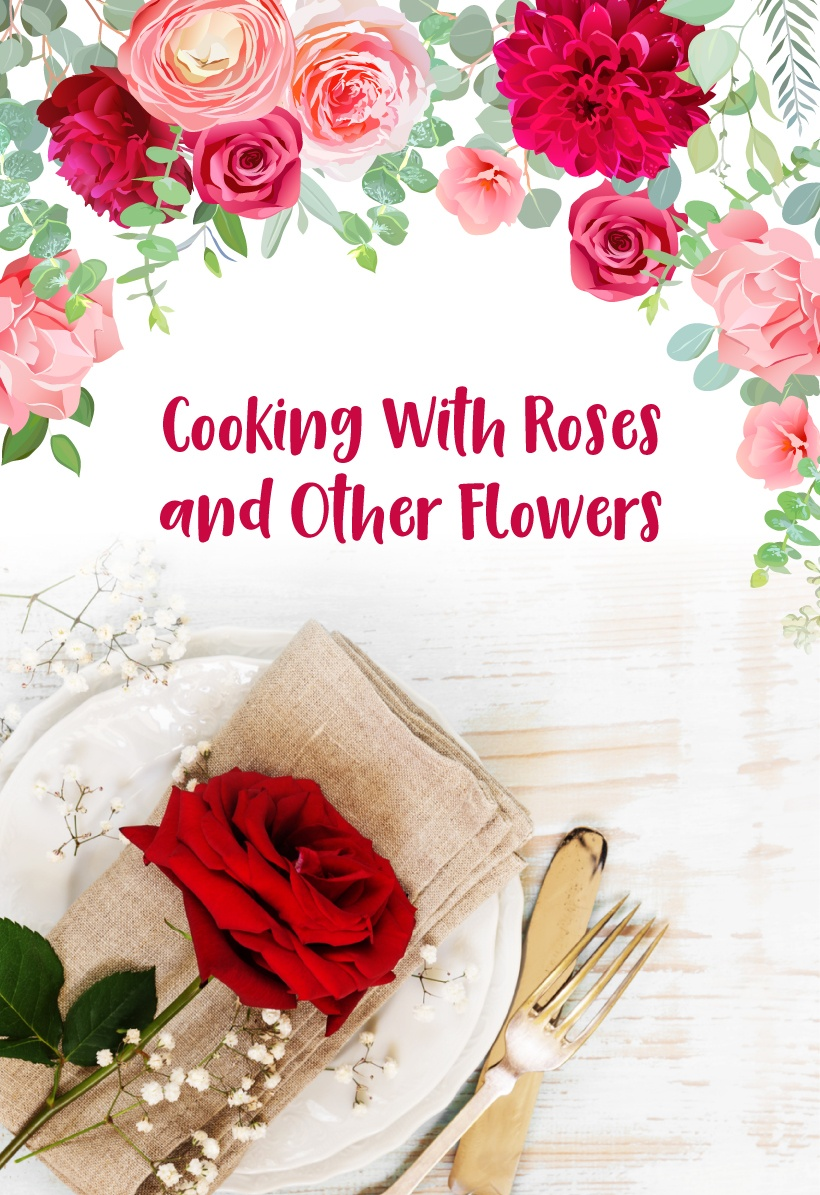rose: (108, 746, 451, 1051), (25, 69, 195, 240), (107, 1, 306, 140), (6, 236, 126, 465), (291, 34, 438, 173), (562, 177, 688, 315), (183, 124, 325, 241)
